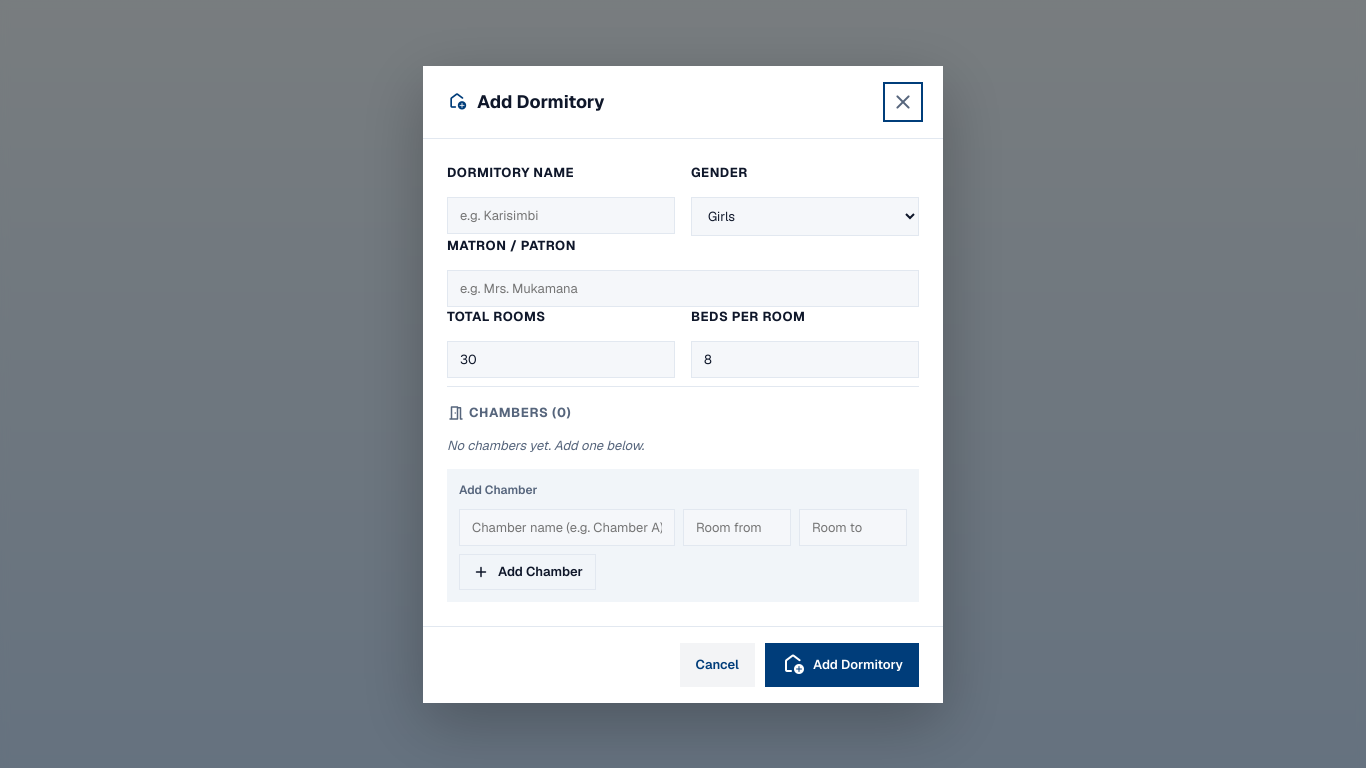
Test: DormitoryModal › rejects adding a chamber with no name
This screenshot has width=1366, height=768.
Click the button "Add Chamber" at (527, 572), box top-left (459, 554), bottom-right (596, 590)
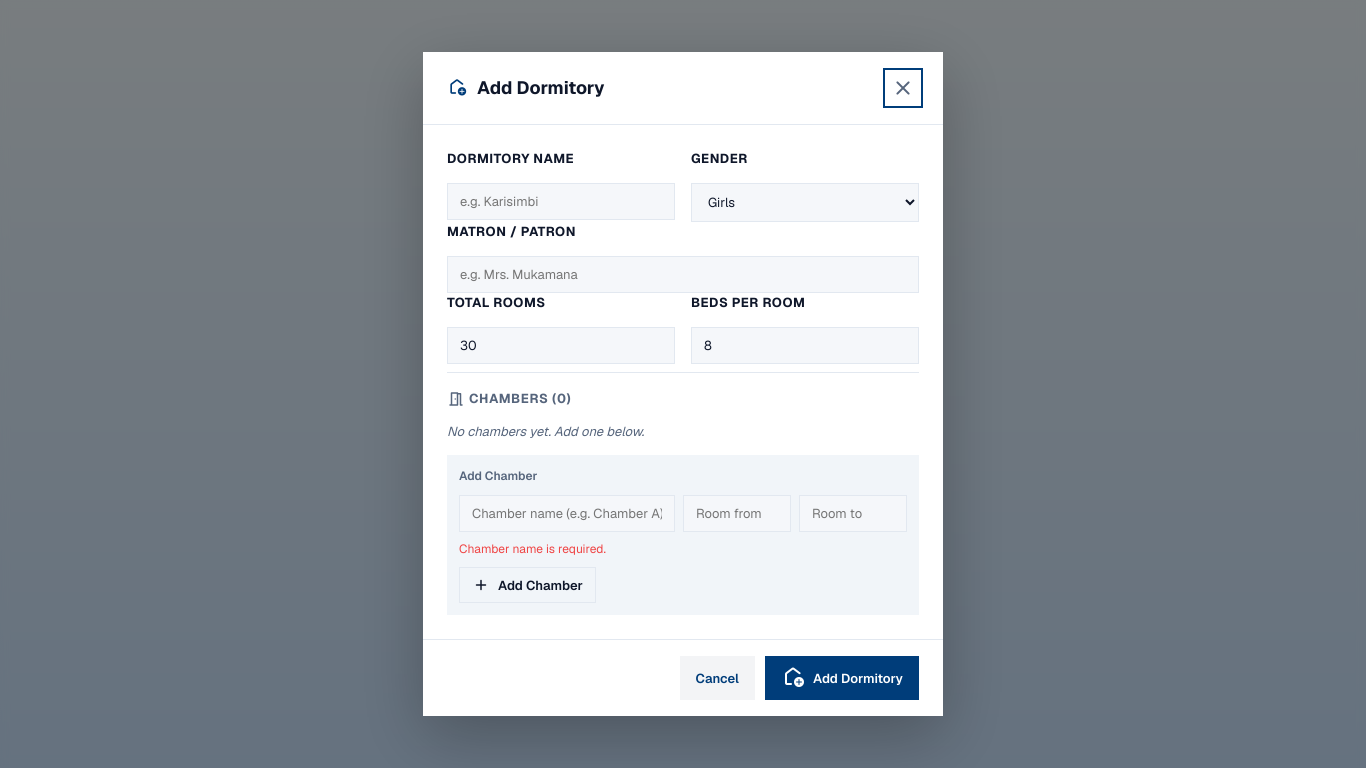
Check: the text "Chamber name is required." is shown, box top-left (459, 541), bottom-right (606, 557)
